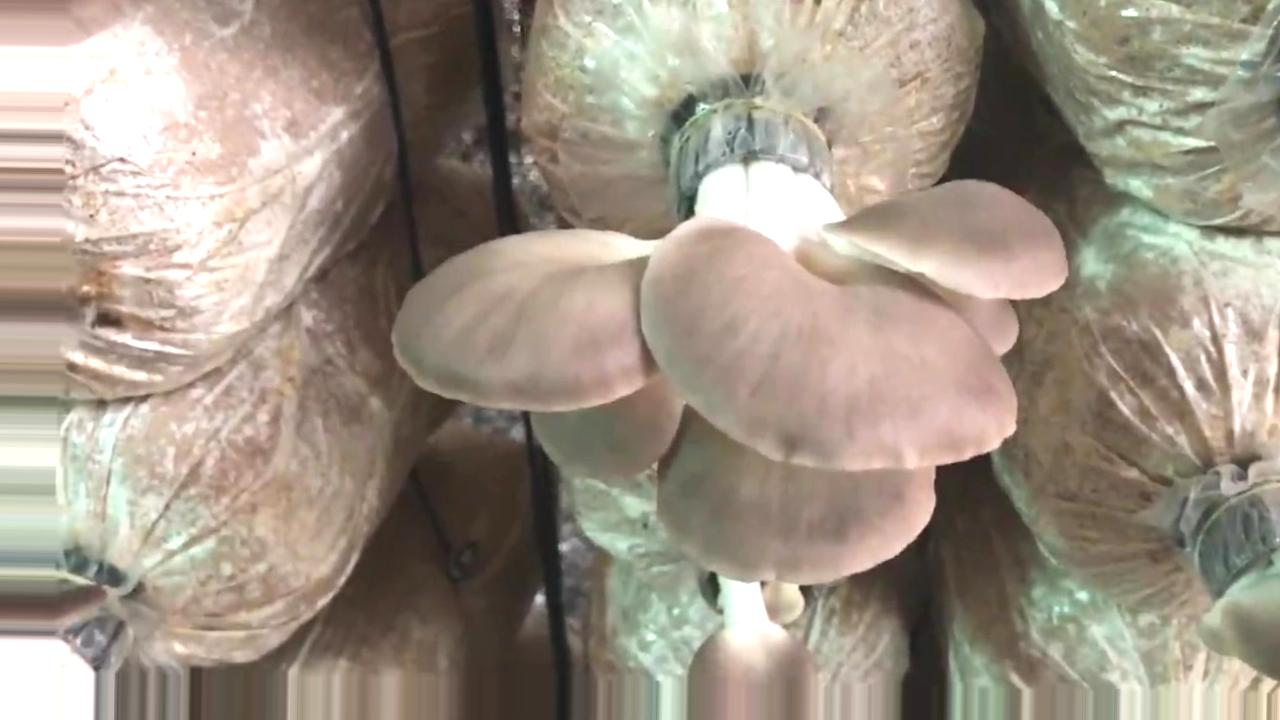nam: (395, 111, 1063, 581), (1, 566, 130, 720), (689, 571, 820, 720), (1204, 496, 1280, 678)
